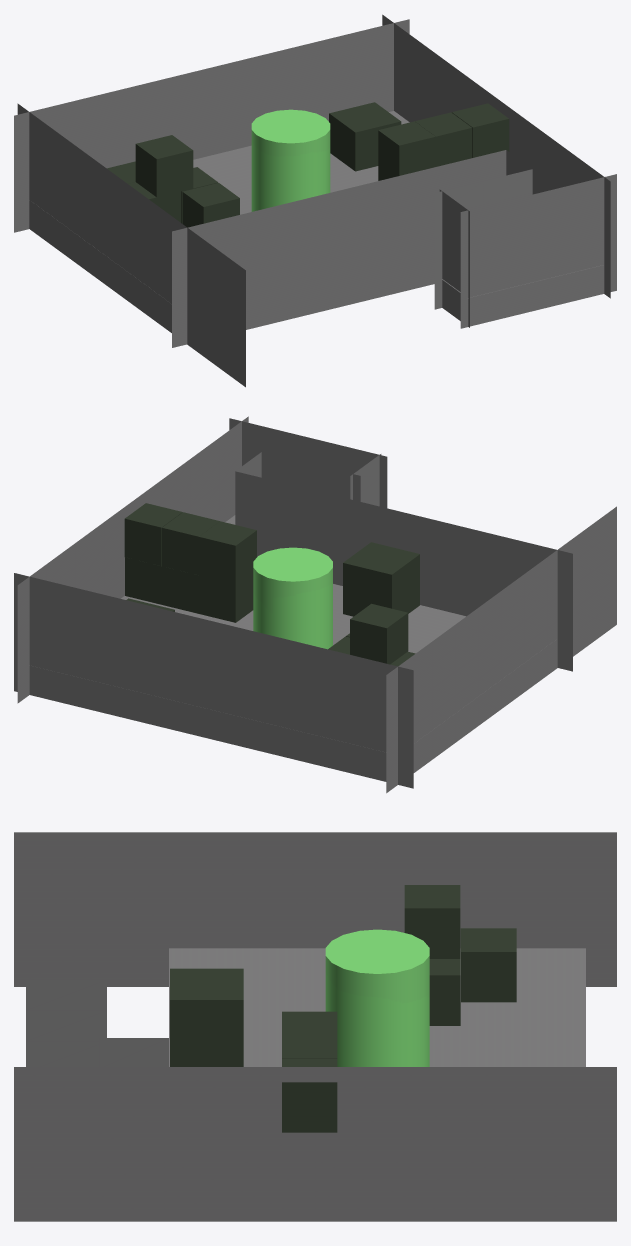
Rendered from stage1.fbx.
The picture shows the model from 3 angles, top to bottom: view 1: azimuth 30°, elevation 25°; view 2: azimuth 150°, elevation 25°; view 3: azimuth 270°, elevation 25°; orthographic projection. The views are drawn at different scales.
Visible parts, largest first — view 1: Plane006, Plane002, Plane003, Plane004, Plane005, Cylinder001, Plane001, Box013, Plane007, Box004, Box009, Plane008 (+4 smaller); view 2: Plane002, Plane003, Plane006, Plane005, Cylinder001, Box012, Plane004, Plane001, Box009, Box004, Plane007, Box011 (+5 smaller); view 3: Plane005, Plane003, Plane001, Cylinder001, Box012, Plane008, Box001, Box004, Box011, Box002, Plane009, Box010 (+1 smaller).
Part boxes in pixels (x1,y1,x2,y2): Plane006: [172, 150, 506, 347]; Plane002: [14, 19, 409, 232]; Plane003: [17, 103, 245, 387]; Plane004: [460, 174, 616, 328]; Plane005: [382, 14, 610, 298]; Cylinder001: [251, 109, 330, 211]; Plane001: [38, 111, 603, 298]; Box013: [329, 102, 401, 171]; Plane007: [434, 169, 532, 309]; Box004: [135, 135, 193, 197]; Box009: [378, 121, 435, 177]; Plane008: [439, 189, 469, 327]; Plane002: [14, 573, 413, 788]; Plane003: [386, 506, 616, 793]; Plane006: [235, 471, 572, 671]; Plane005: [17, 416, 248, 703]; Cylinder001: [253, 547, 332, 649]; Box012: [343, 542, 419, 616]; Plane004: [229, 418, 387, 508]; Plane001: [121, 515, 555, 741]; Box009: [199, 521, 256, 584]; Box004: [350, 603, 408, 664]; Plane007: [261, 452, 360, 501]; Box011: [124, 503, 182, 565]; Plane005: [14, 1067, 616, 1221]; Plane003: [14, 832, 616, 986]; Plane001: [169, 948, 585, 1066]; Cylinder001: [325, 929, 429, 1066]; Box012: [170, 968, 243, 1066]; Plane008: [26, 979, 106, 1066]; Box001: [461, 928, 516, 1002]; Box004: [404, 885, 460, 958]; Box011: [282, 1059, 337, 1132]; Box002: [429, 952, 460, 1025]; Plane009: [99, 1038, 168, 1066]; Box010: [282, 1035, 337, 1058].
Size of the model in its own units: 759 by 215 by 759.
